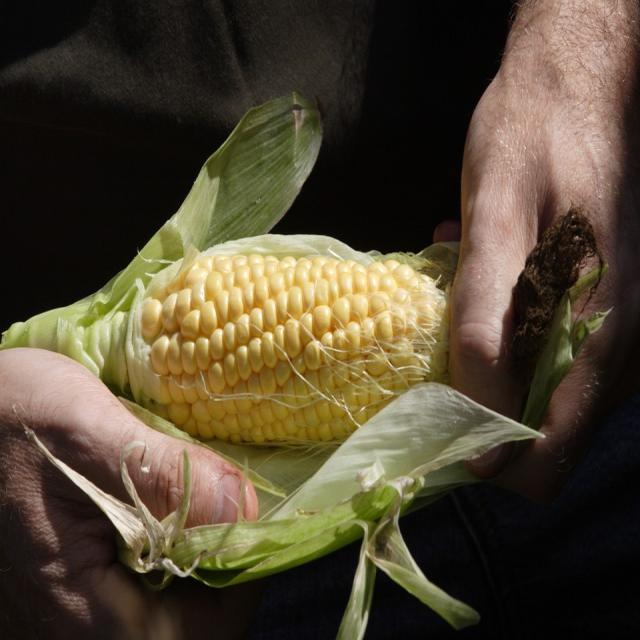corn: (132, 232, 463, 448)
